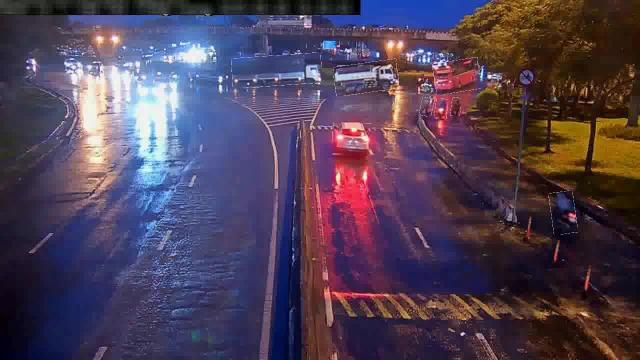Bike: (550, 192, 578, 234), (420, 98, 434, 116), (436, 99, 448, 119), (451, 98, 461, 116)
Bus: (434, 59, 481, 93)
Car: (332, 123, 372, 155)
Truck: (232, 54, 322, 86), (334, 62, 398, 94)
